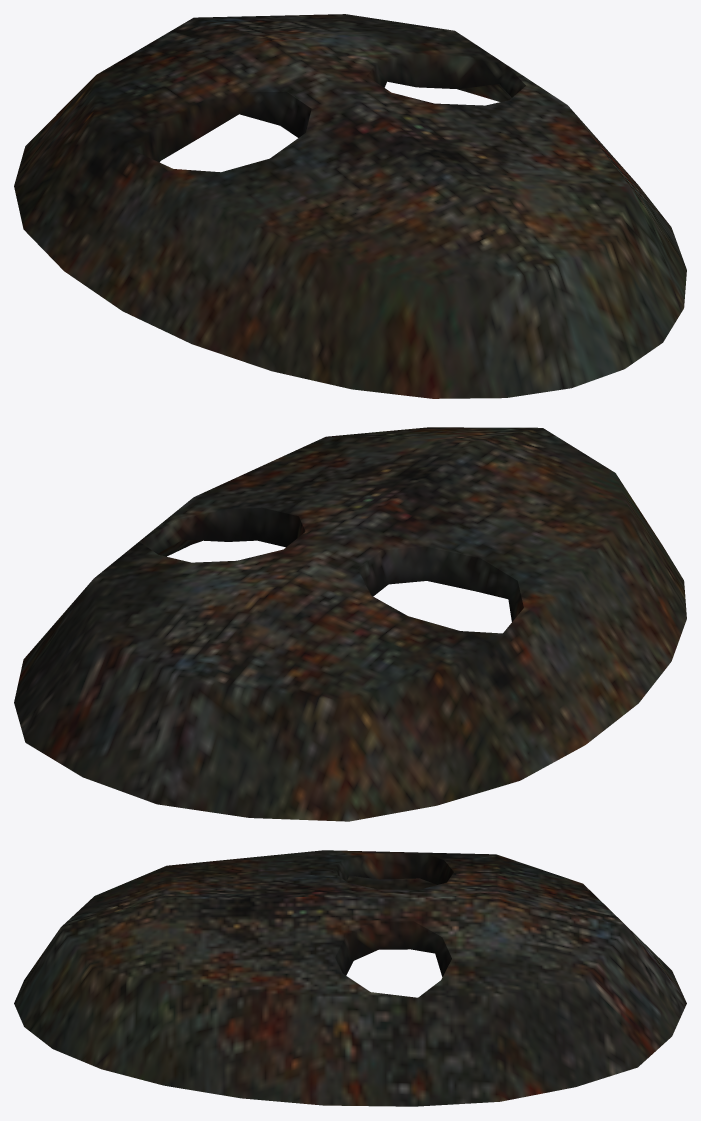
File: mask_mx_4.obj
3 views of the same model, one above another, from view 1: azimuth 30°, elevation 25°; view 2: azimuth 150°, elevation 25°; view 3: azimuth 270°, elevation 25° (orthographic). The views are drawn at different scales.
Parts seen in each view (by area): view 1: mask_mx_4; view 2: mask_mx_4; view 3: mask_mx_4.
Boxes of the visible parts, box(x1,y1,x2,y2) form: mask_mx_4: box(14, 14, 686, 398); mask_mx_4: box(14, 427, 686, 821); mask_mx_4: box(14, 850, 686, 1106).
Size of the model in its own units: 0.2322 by 0.0554 by 0.3198.
